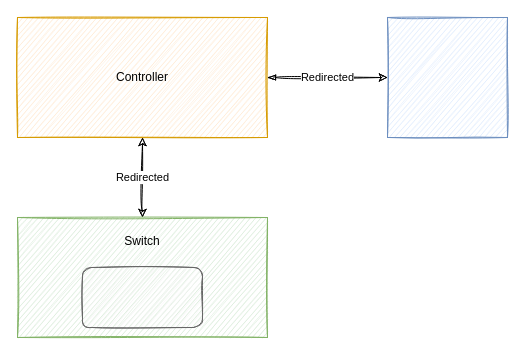
This 525x355 diagram has some shape labels left out. The centre of each missing label's shape, as x and y in pixels:
"Flow Table" goes at (142,297).
"VNF" goes at (447,77).
